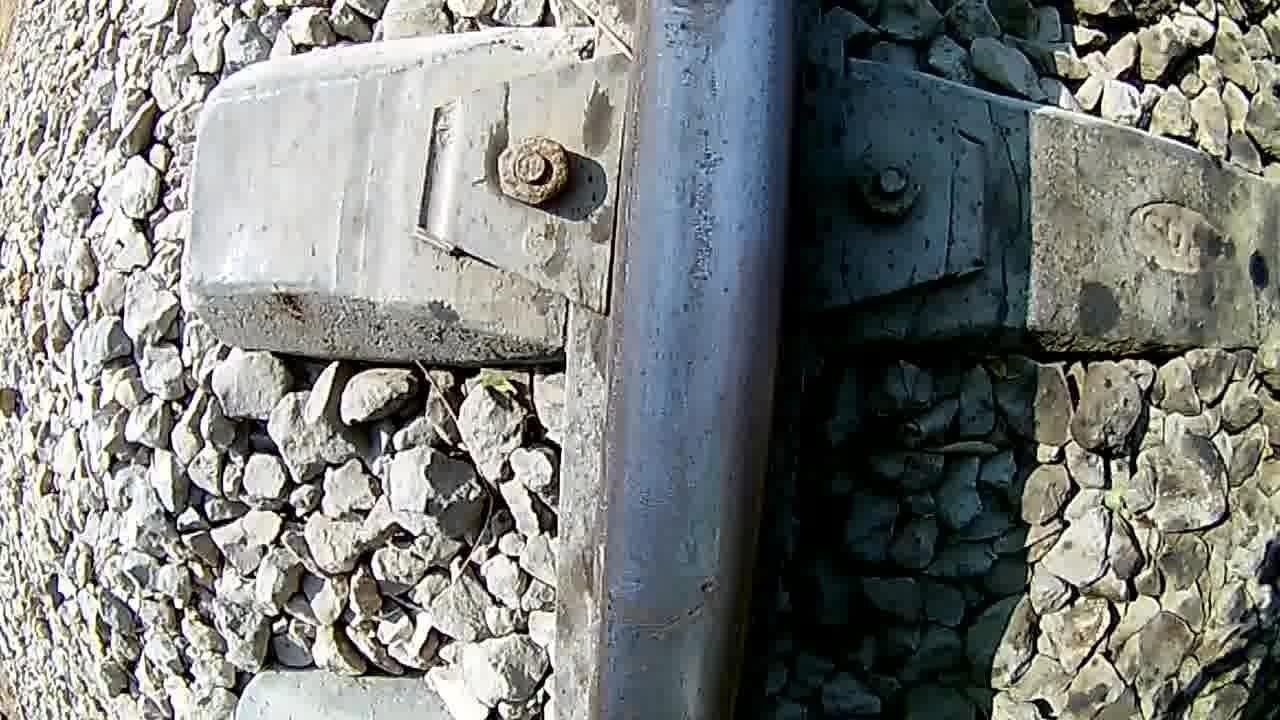crack: (595, 3, 796, 720)
